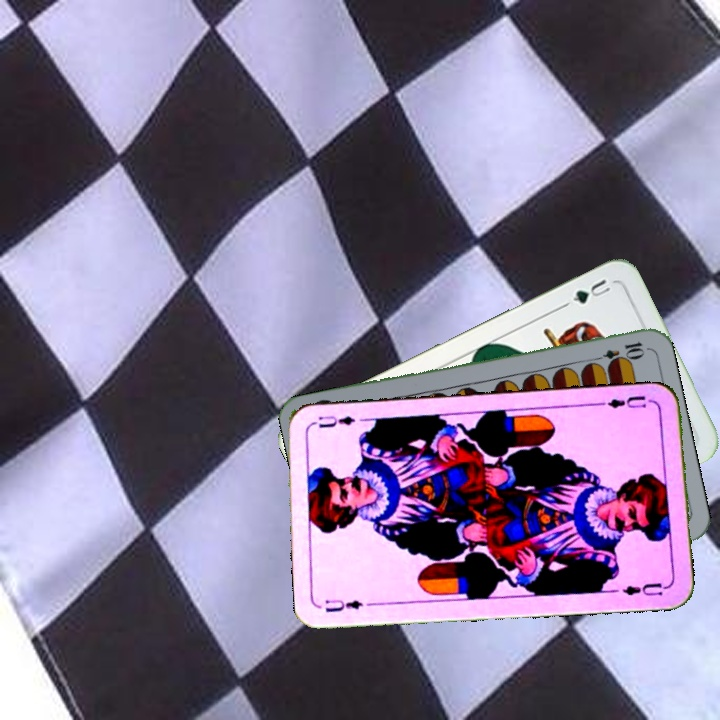E10: (588, 337, 647, 366)
EU: (598, 391, 657, 412), (321, 595, 365, 615)
GU: (568, 275, 616, 307)
